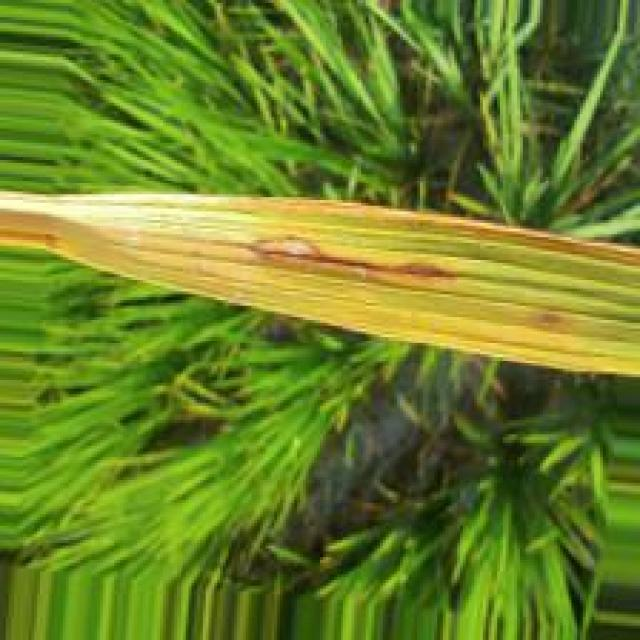Leaf_Blast: (246, 236, 455, 288)
